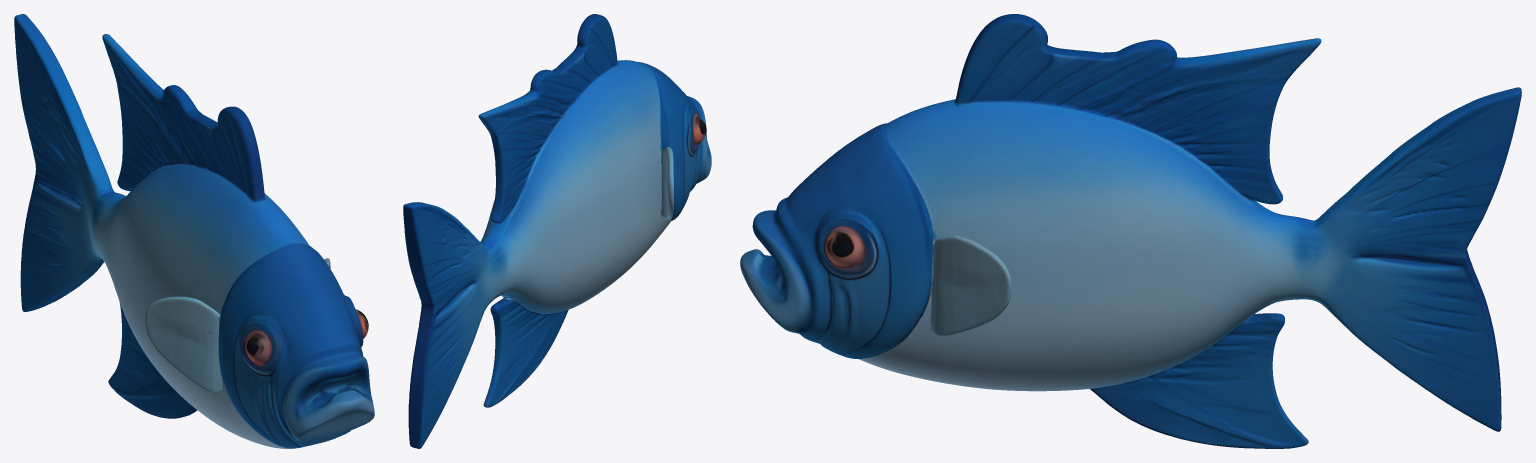
File: tripo_pbr_model_09a094a6-4fb2-4bb8-a337-97f8c85e41e6.glb
3 views of the same model, side by side, from view 1: azimuth 30°, elevation 25°; view 2: azimuth 150°, elevation 25°; view 3: azimuth 270°, elevation 25° (orthographic). The views are drawn at different scales.
Visible parts, largest first — view 1: tripo_node_09a094a6-4fb2-4bb8-a337-97f8c85e41e6; view 2: tripo_node_09a094a6-4fb2-4bb8-a337-97f8c85e41e6; view 3: tripo_node_09a094a6-4fb2-4bb8-a337-97f8c85e41e6.
Boxes of the visible parts, x1,y1,x2,y2 form: tripo_node_09a094a6-4fb2-4bb8-a337-97f8c85e41e6: [14, 14, 374, 448]; tripo_node_09a094a6-4fb2-4bb8-a337-97f8c85e41e6: [403, 14, 711, 448]; tripo_node_09a094a6-4fb2-4bb8-a337-97f8c85e41e6: [740, 14, 1521, 448].
Bounding box in the file's own units: 0.3201 × 0.6098 × 1.
1 material, 1 textured.
